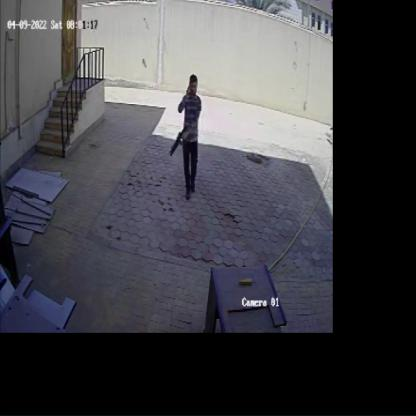handgun: (166, 119, 191, 157)
